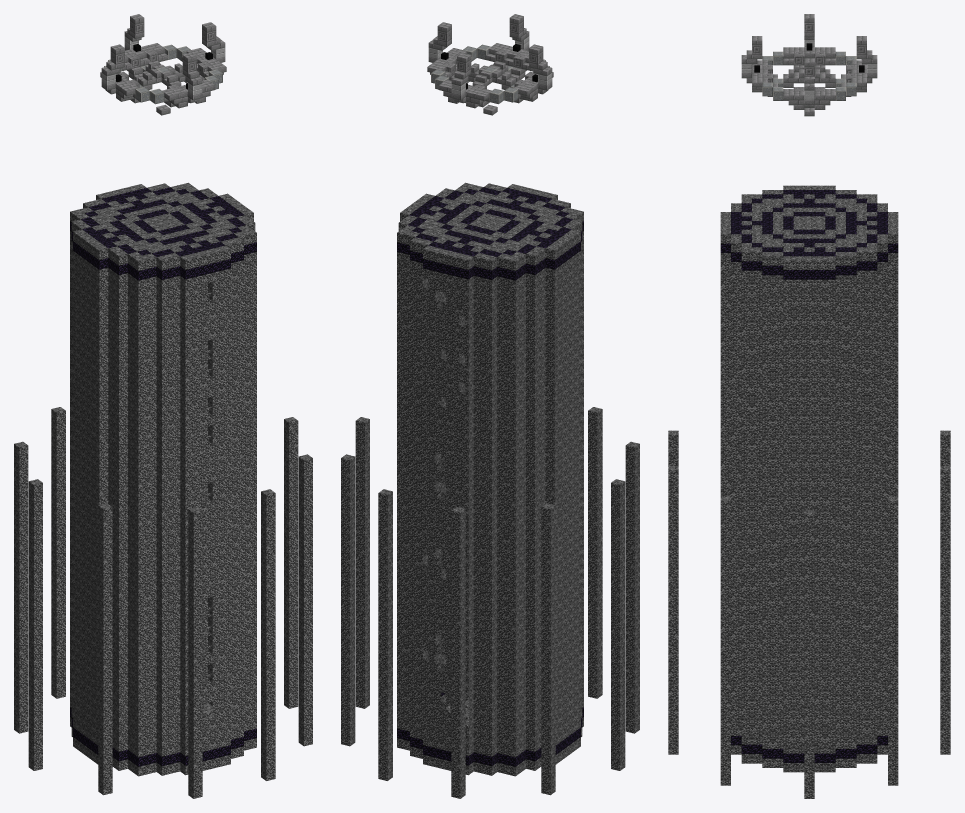
The model's file is minecraft.obj.
The picture shows the model from 3 angles, left to right: view 1: azimuth 30°, elevation 25°; view 2: azimuth 150°, elevation 25°; view 3: azimuth 270°, elevation 25°; orthographic projection.
Size of the model in its own units: 29 by 73.5 by 27.
